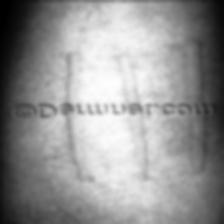Toxin: (180, 34, 212, 193), (112, 51, 150, 182), (58, 51, 90, 182)
